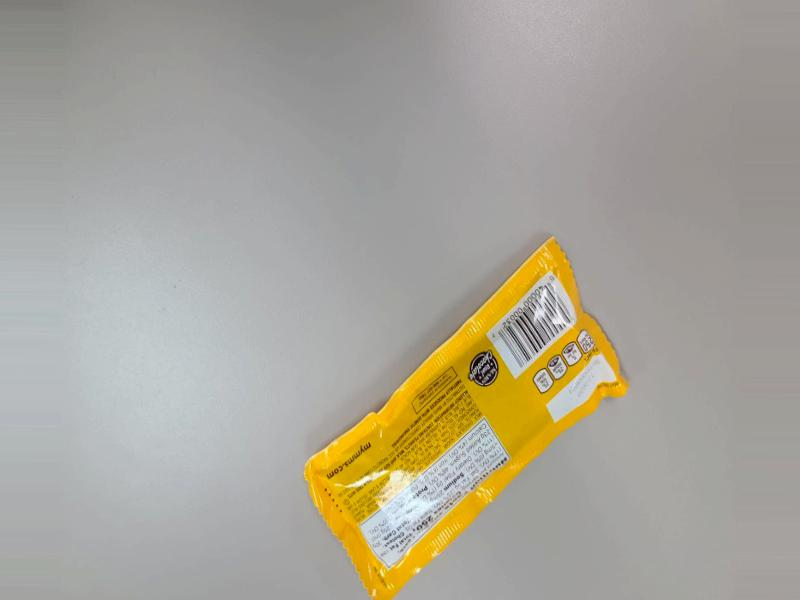m&m: (296, 217, 631, 597)
